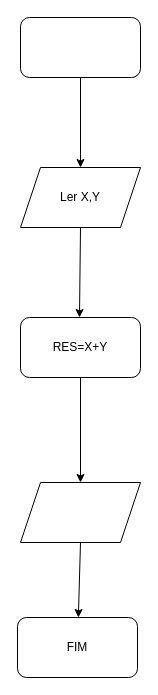
Some shapes in this 158 by 695 pixel diagram are drawn without their labels. Each missing label, with the centre of its shape:
"ESCREVER RES" belongs at (x=80, y=512).
"INICIO" belongs at (x=80, y=47).
